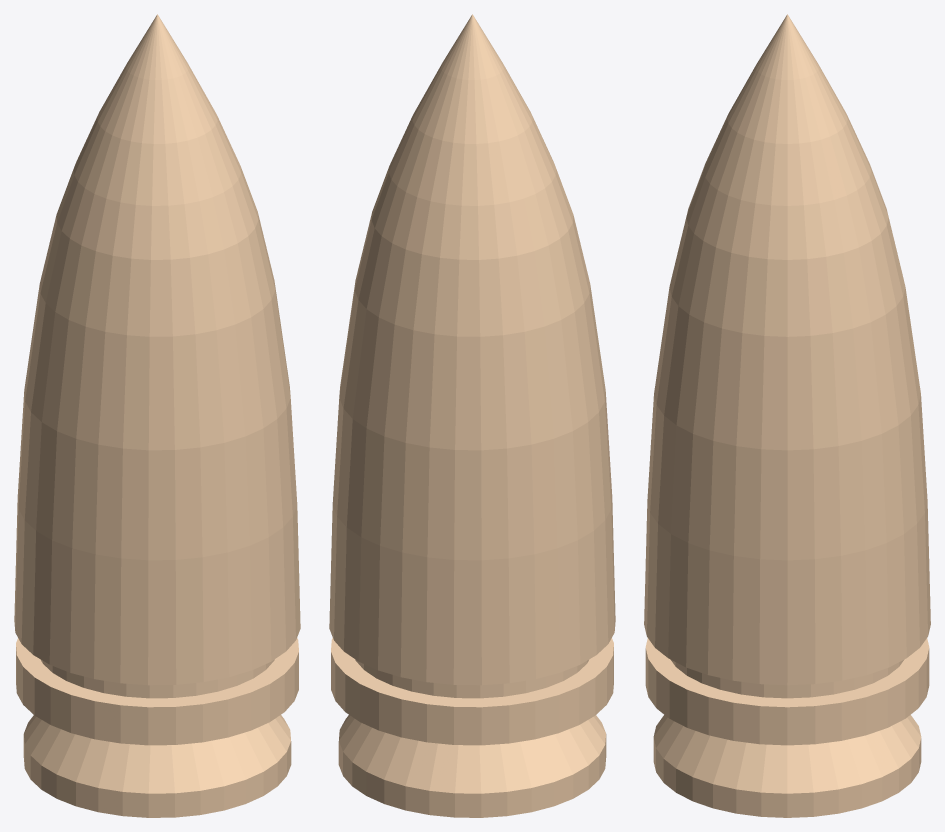
The model's file is Bullet.fbx.
3 renders of one model, left to right at view 1: azimuth 30°, elevation 25°; view 2: azimuth 150°, elevation 25°; view 3: azimuth 270°, elevation 25°, orthographic.
Visible parts, largest first — view 1: bullet.001; view 2: bullet.001; view 3: bullet.001.
Part boxes in pixels (x1,y1,x2,y2): bullet.001: [14, 14, 300, 817]; bullet.001: [329, 14, 615, 817]; bullet.001: [644, 14, 930, 817].
Size of the model in its own units: 24.72 by 71.08 by 24.72.
